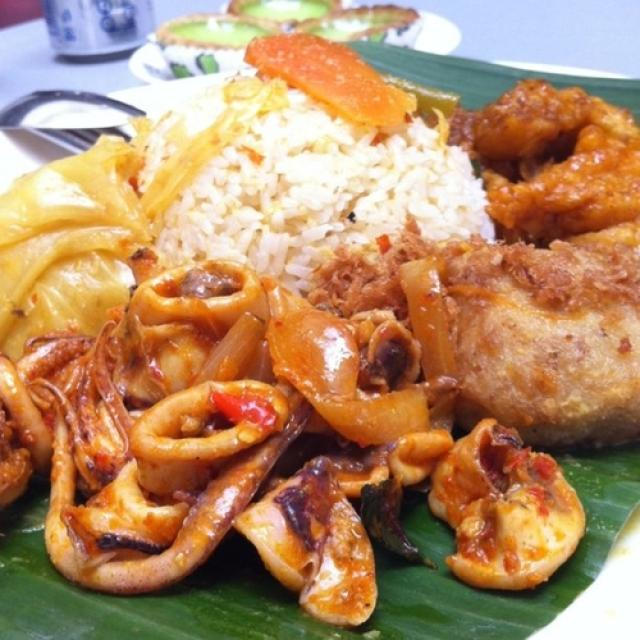米饭主食: (12, 11, 616, 628)
